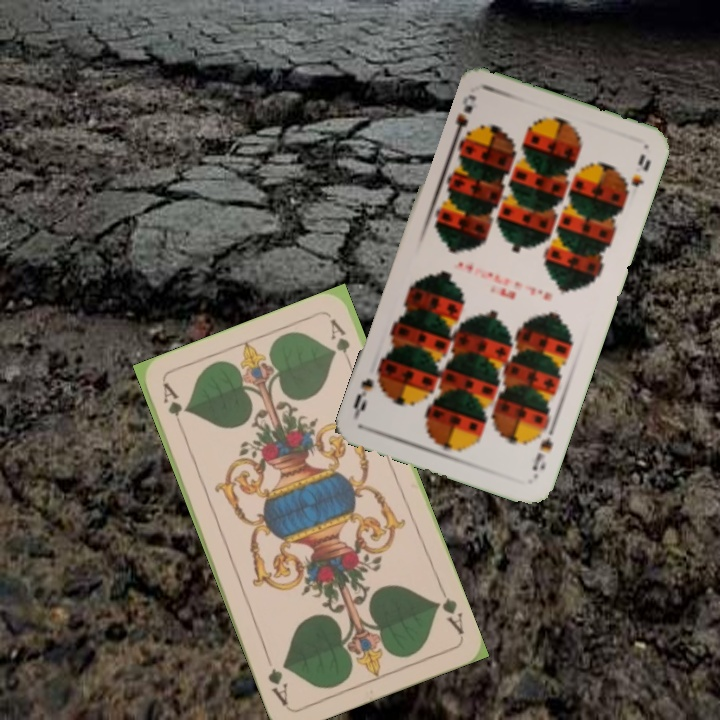GA: (431, 583, 467, 638), (159, 378, 186, 436)
S9: (528, 424, 556, 481), (448, 101, 475, 148)
